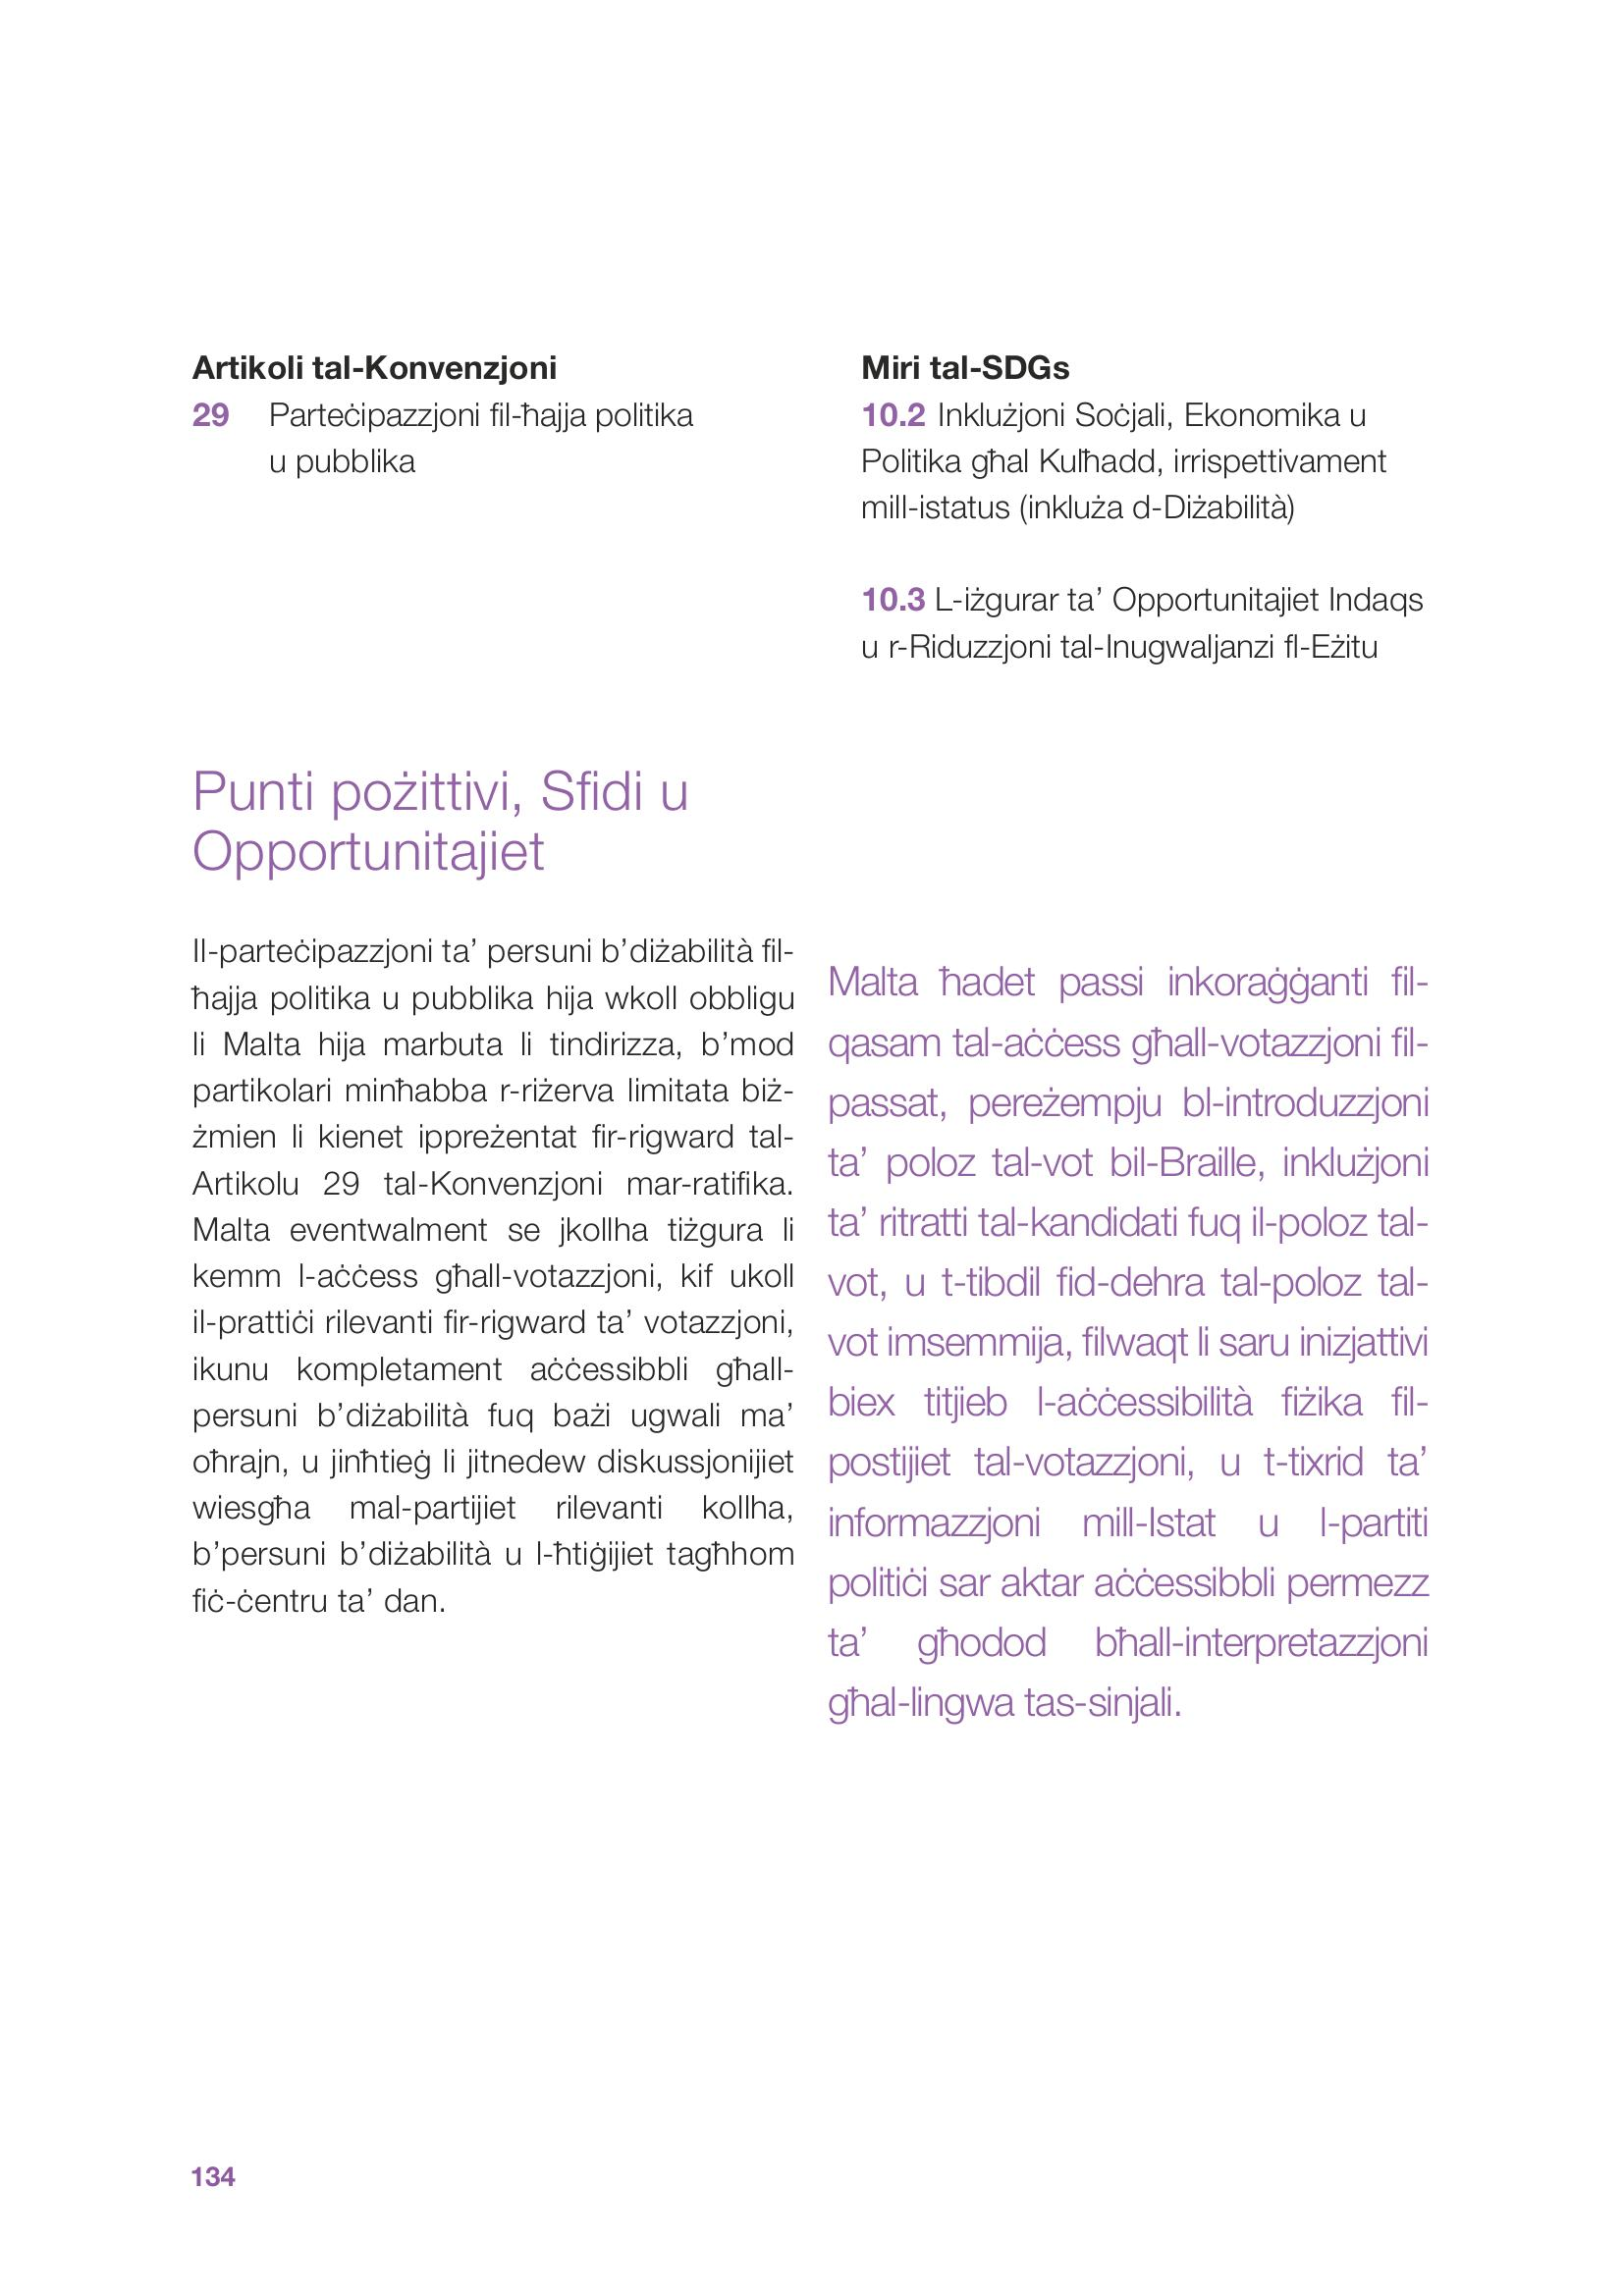text: (179, 697, 808, 1718), (810, 957, 1459, 1774)
